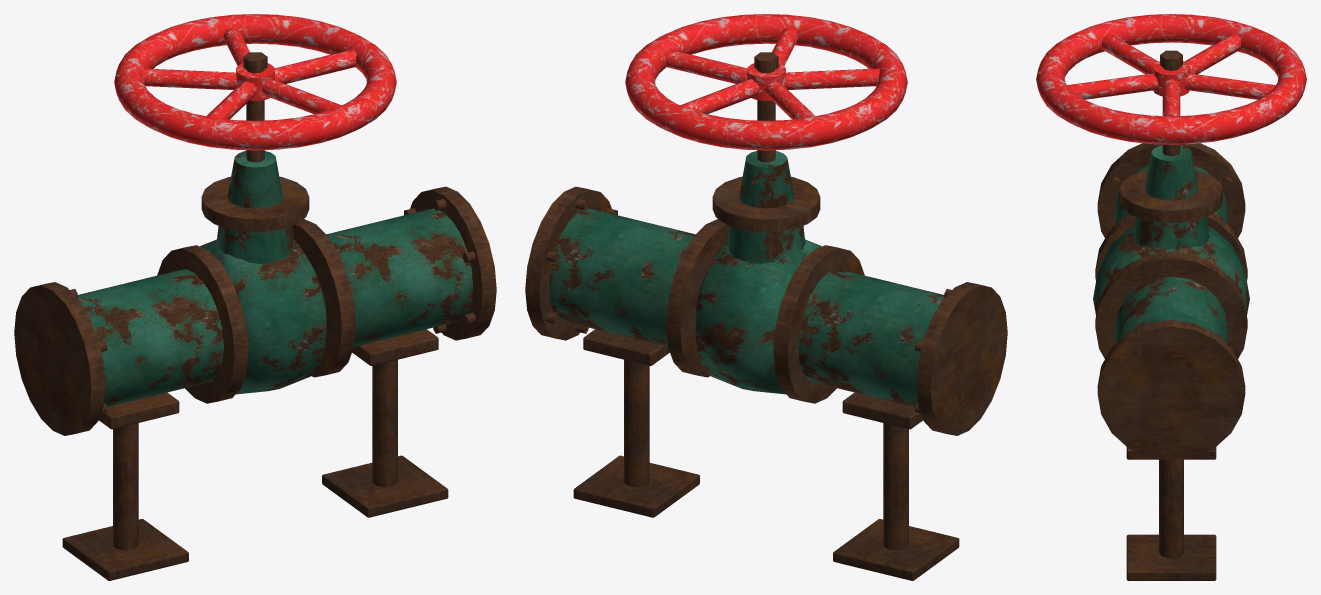
The model's file is prop_pipeValve.glb.
The picture shows the model from 3 angles, left to right: view 1: azimuth 30°, elevation 25°; view 2: azimuth 150°, elevation 25°; view 3: azimuth 270°, elevation 25°; orthographic projection. The views are drawn at different scales.
Parts seen in each view (by area): view 1: prop; view 2: prop; view 3: prop.
Part boxes in pixels (x1,y1,x2,y2): prop: (14,14,496,580); prop: (525,14,1007,580); prop: (1036,14,1306,580).
Size of what is drawn, in the model's own units: 1 by 1.1 by 0.604.
Materials: 3 (3 with a texture image).
